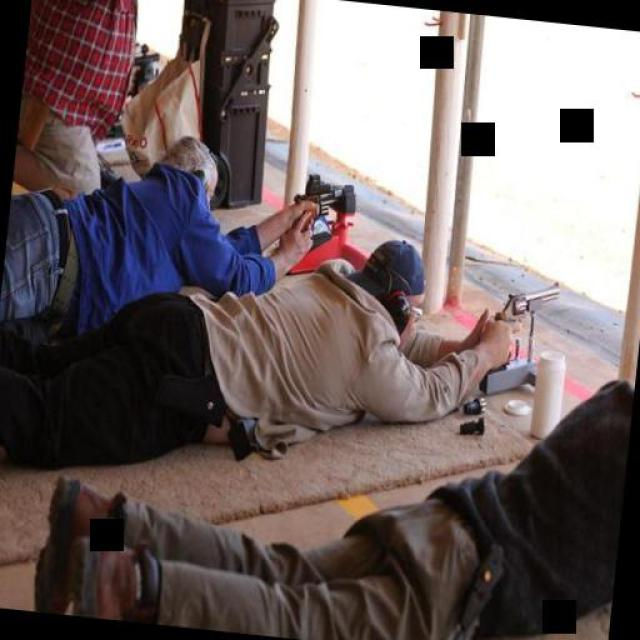gun: (479, 261, 565, 364), (287, 161, 358, 229)
